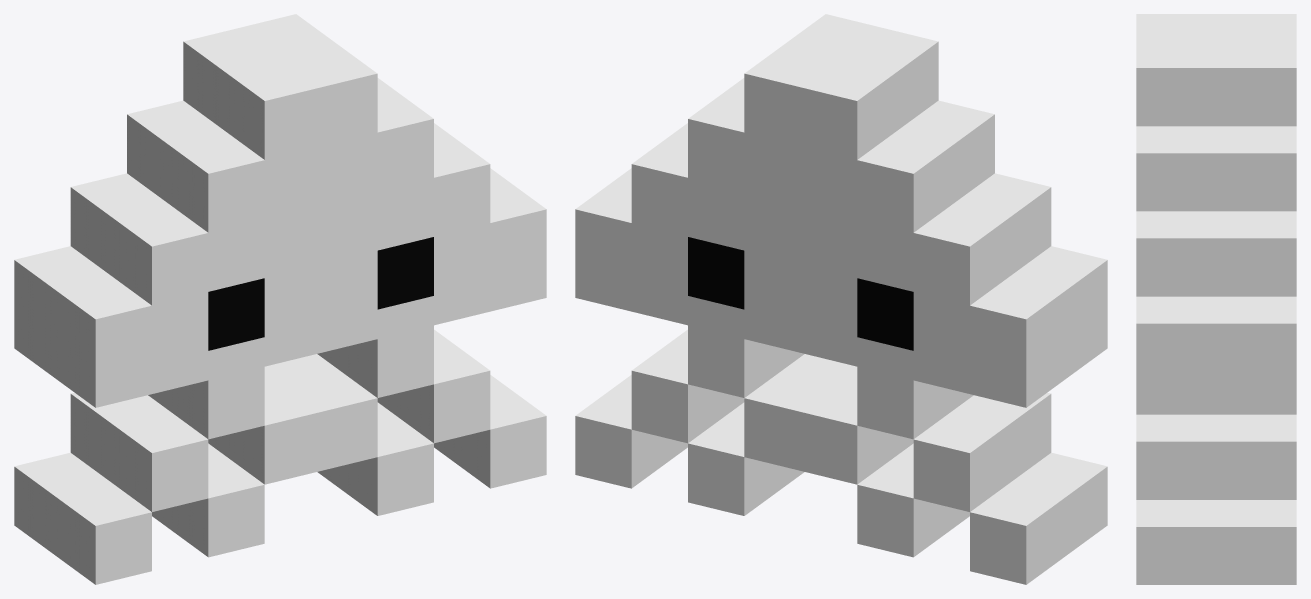
File: alien_1.gltf
3 renders of one model, left to right at view 1: azimuth 30°, elevation 25°; view 2: azimuth 150°, elevation 25°; view 3: azimuth 270°, elevation 25°, orthographic.
Parts seen in each view (by area): view 1: Layer.1; view 2: Layer.1; view 3: Layer.1.
Part boxes in pixels (x1,y1,x2,y2): Layer.1: (14,14,546,584); Layer.1: (575,14,1107,584); Layer.1: (1136,14,1296,584).
Bounding box in the file's own units: 16 × 15 × 5.
Materials: 1 (1 with a texture image).
